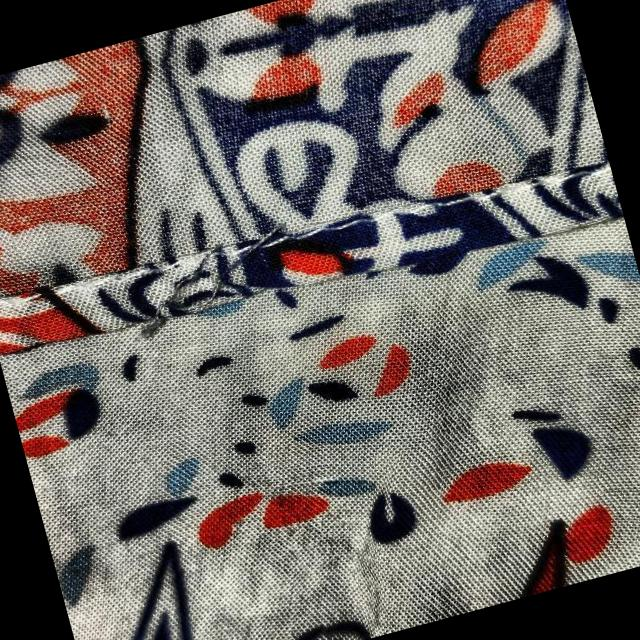gray stitch: (126, 178, 352, 393)
